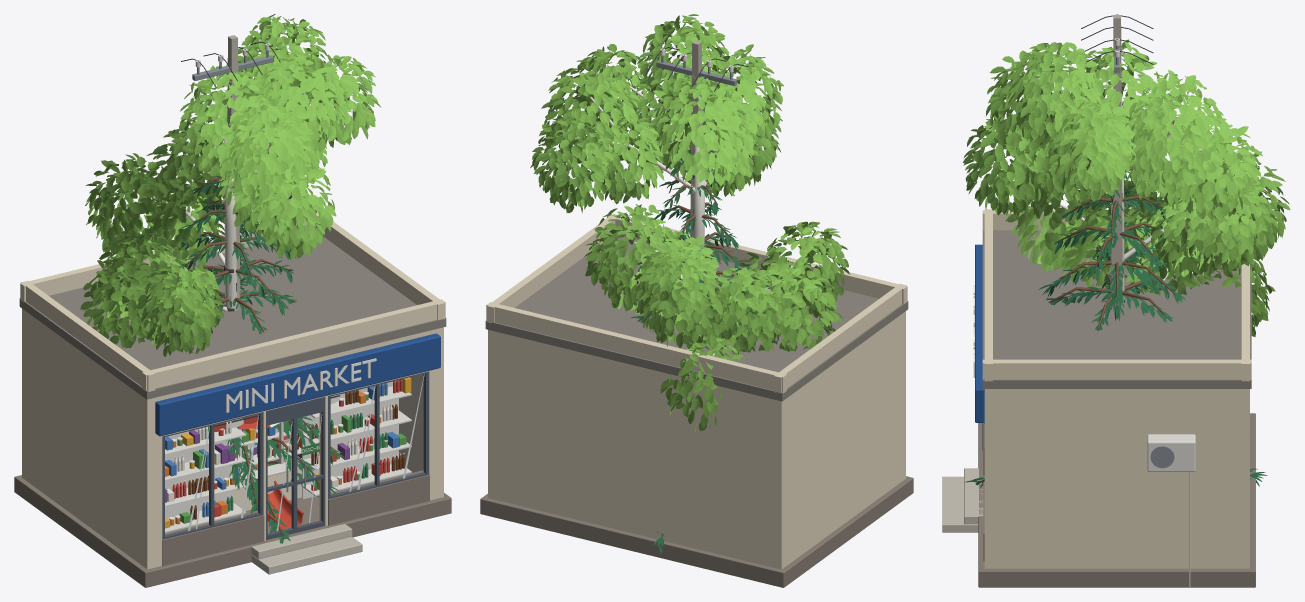
File: street_kit.glb
3 views of the same model, side by side, from view 1: azimuth 30°, elevation 25°; view 2: azimuth 150°, elevation 25°; view 3: azimuth 270°, elevation 25° (orthographic). The views are drawn at different scales.
Visible parts, largest first — view 1: mini_market, tree_birch, tree_pine, kiosk, utility_pole, slide; view 2: mini_market, tree_birch, tree_pine, utility_pole; view 3: mini_market, tree_birch, tree_pine, utility_pole.
Boxes of the visible parts, x1,y1,x2,y2 form: mini_market: (14,211,451,587); tree_birch: (80,14,381,356); tree_pine: (178,172,344,543); kiosk: (214,394,339,510); utility_pole: (181,35,291,309); slide: (242,463,303,529); mini_market: (480,213,913,587); tree_birch: (530,14,849,431); tree_pine: (630,150,753,554); utility_pole: (645,40,748,250); mini_market: (942,209,1255,587); tree_birch: (963,39,1290,336); tree_pine: (965,147,1267,487); utility_pole: (998,14,1153,305).
Bounding box in the file's own units: 6.45 × 9.08 × 5.78.
